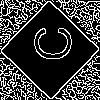C: (25, 25, 72, 62)
